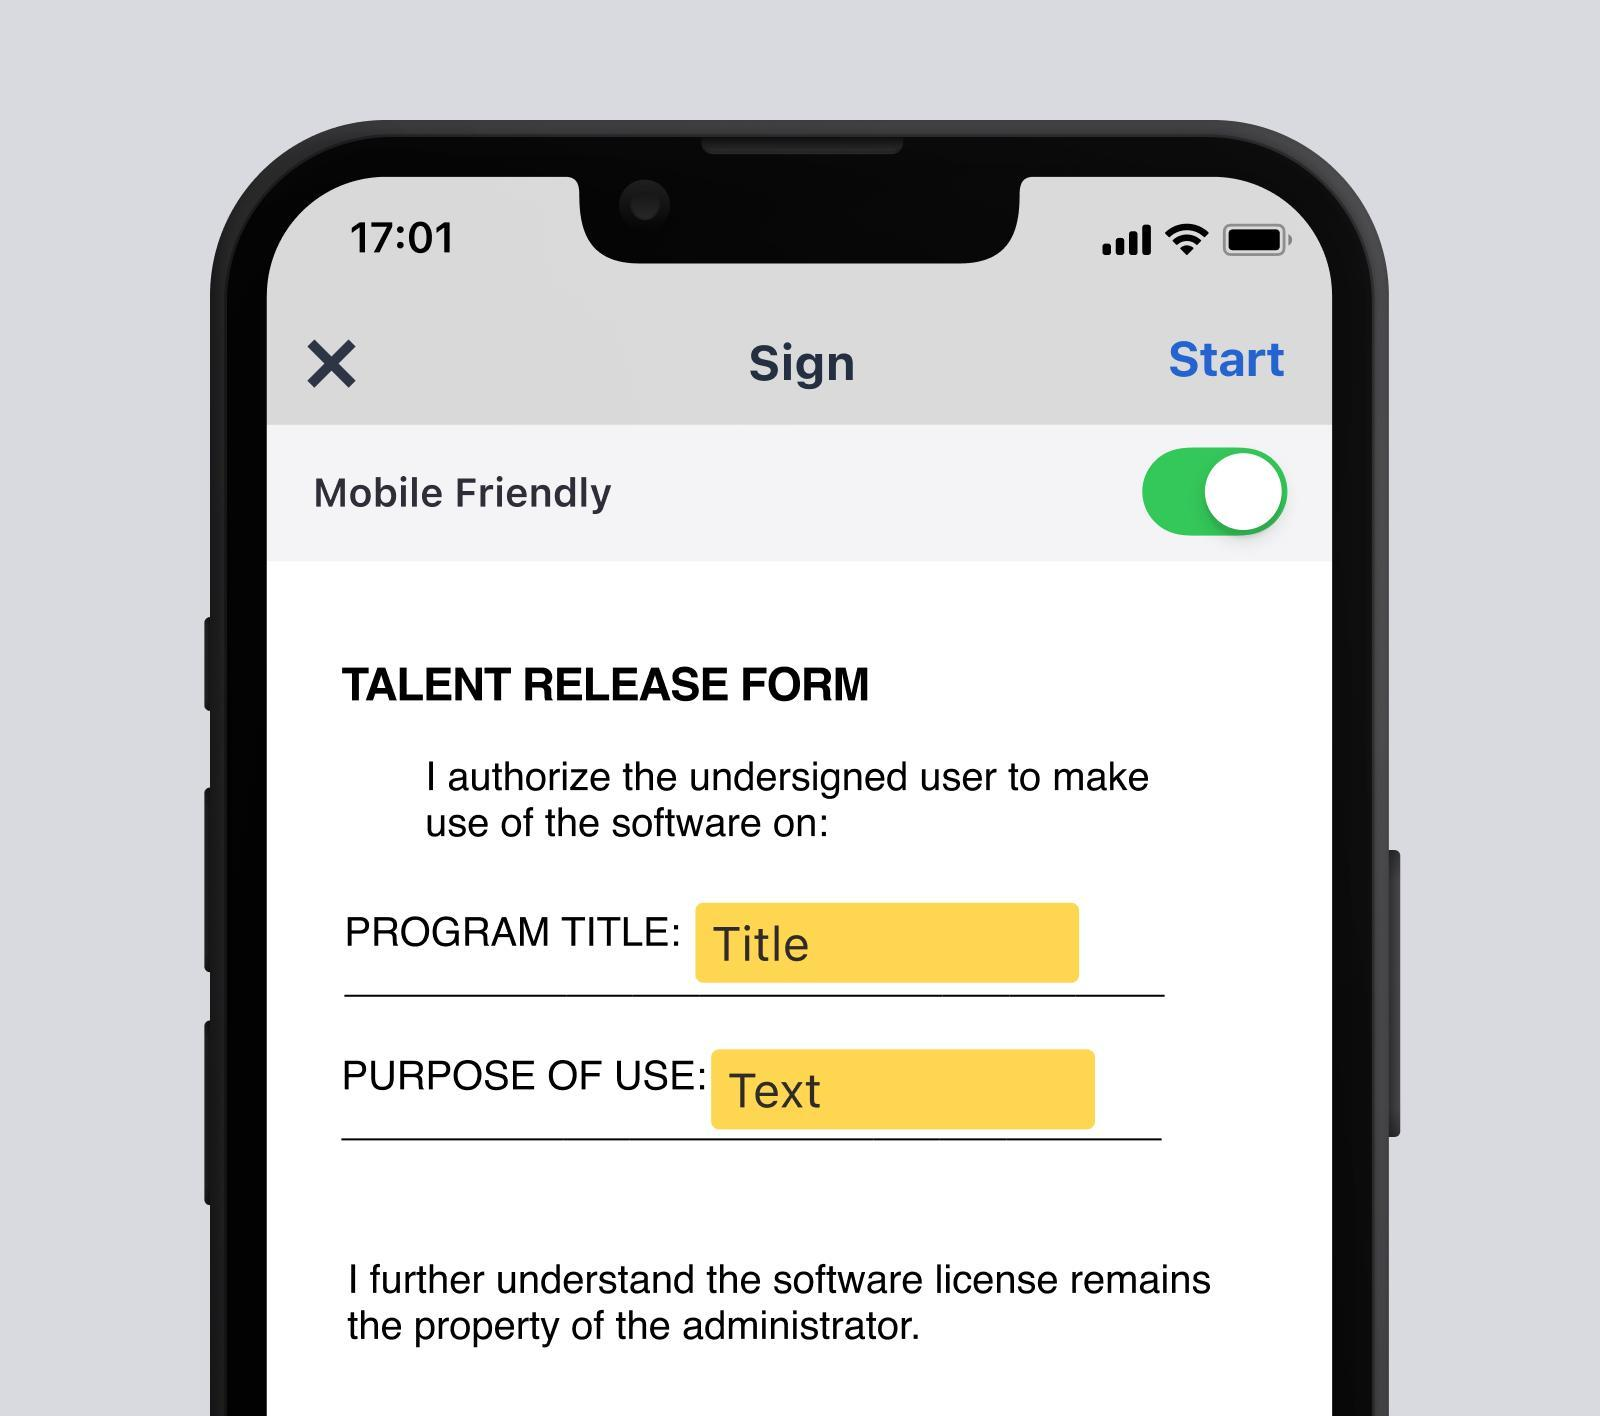icon: (299, 329, 368, 400)
input: (711, 1048, 1094, 1132), (698, 903, 1084, 985)
label: (332, 633, 879, 729), (337, 887, 687, 979), (301, 469, 627, 528), (342, 1051, 709, 1102), (735, 331, 870, 407), (1164, 331, 1305, 394)
switch: (1142, 446, 1293, 534)
